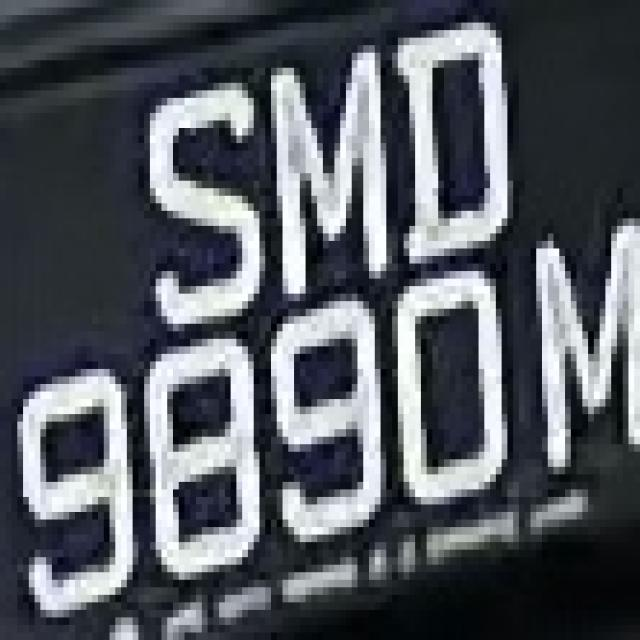0: (392, 233, 525, 512)
8: (144, 301, 288, 580)
9: (260, 286, 404, 572), (0, 4, 1, 8)
D: (386, 8, 513, 271)
J: (8, 368, 136, 615)
M: (265, 38, 398, 308), (519, 218, 640, 467)
S: (127, 61, 259, 332)
